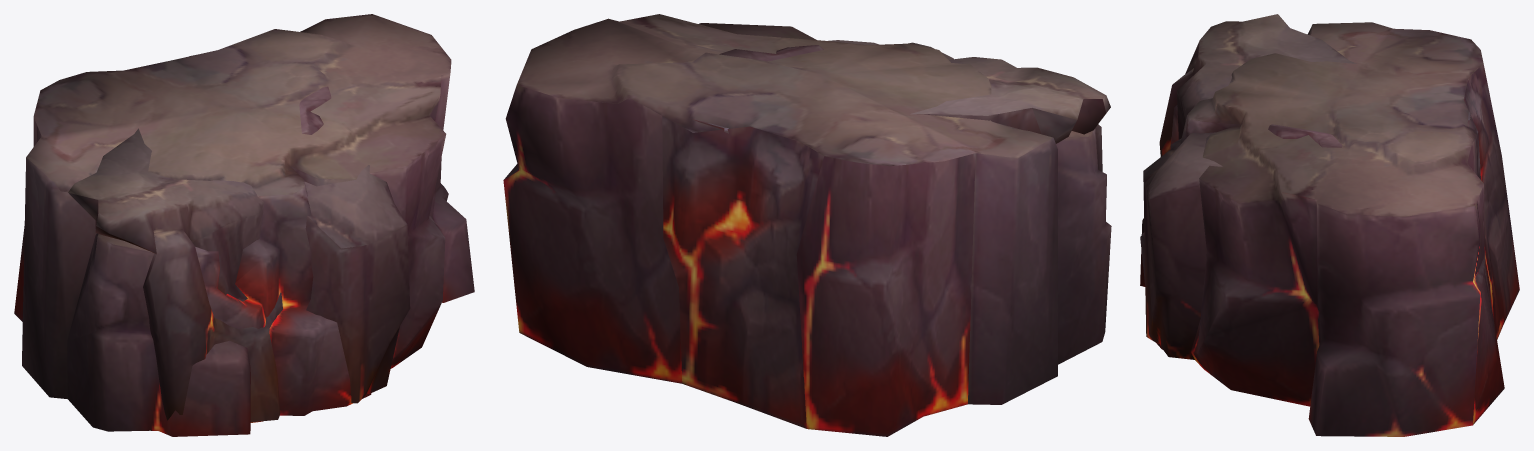
The model's file is chpd_shitou_05.FBX.
3 renders of one model, left to right at view 1: azimuth 30°, elevation 25°; view 2: azimuth 150°, elevation 25°; view 3: azimuth 270°, elevation 25°, orthographic. The views are drawn at different scales.
Visible parts, largest first — view 1: shanshi01_010, shanshi01_011; view 2: shanshi01_010, shanshi01_011; view 3: shanshi01_010, shanshi01_011.
Boxes of the visible parts, box(x1,y1,x2,y2) form: shanshi01_010: box(14, 14, 474, 436); shanshi01_011: box(68, 55, 410, 422); shanshi01_010: box(503, 14, 1111, 436); shanshi01_011: box(693, 40, 1110, 171); shanshi01_010: box(1140, 22, 1519, 436); shanshi01_011: box(1143, 14, 1471, 359).
Size of the model in its own units: 1623 by 830 by 1234.
